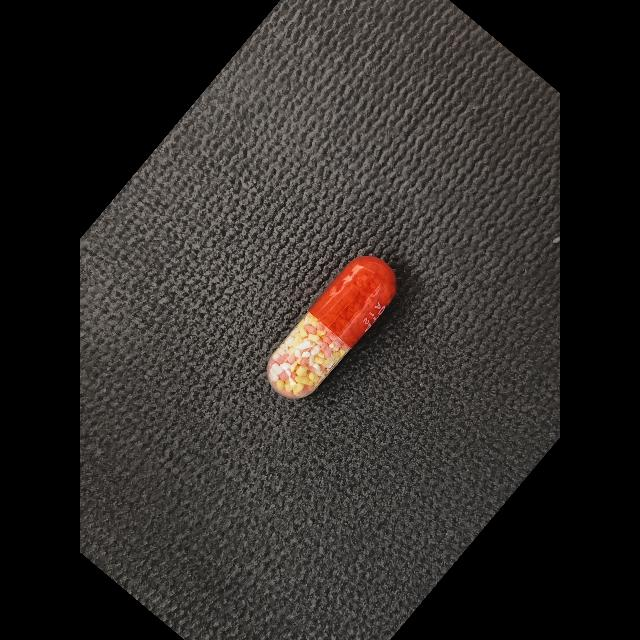Intact Capsule: (266, 256, 396, 398)
